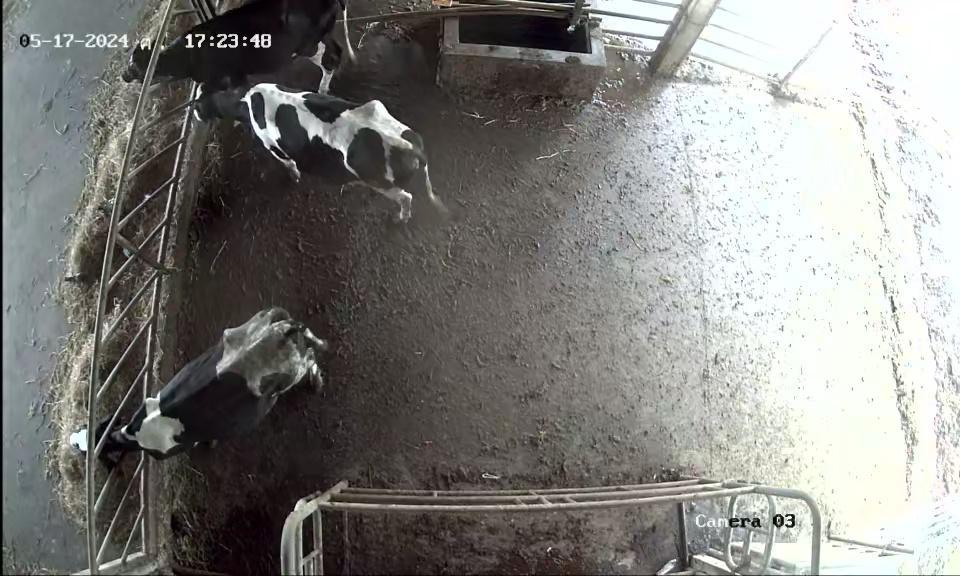eat: (49, 393, 164, 479), (108, 27, 206, 99)
stand: (186, 79, 455, 240)
